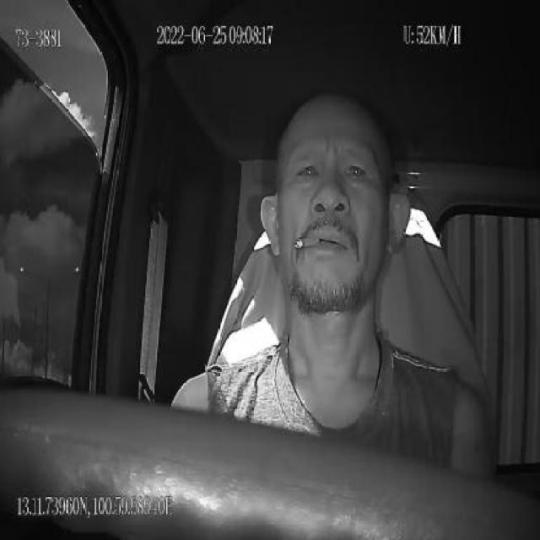smoking: (295, 234, 319, 250)
